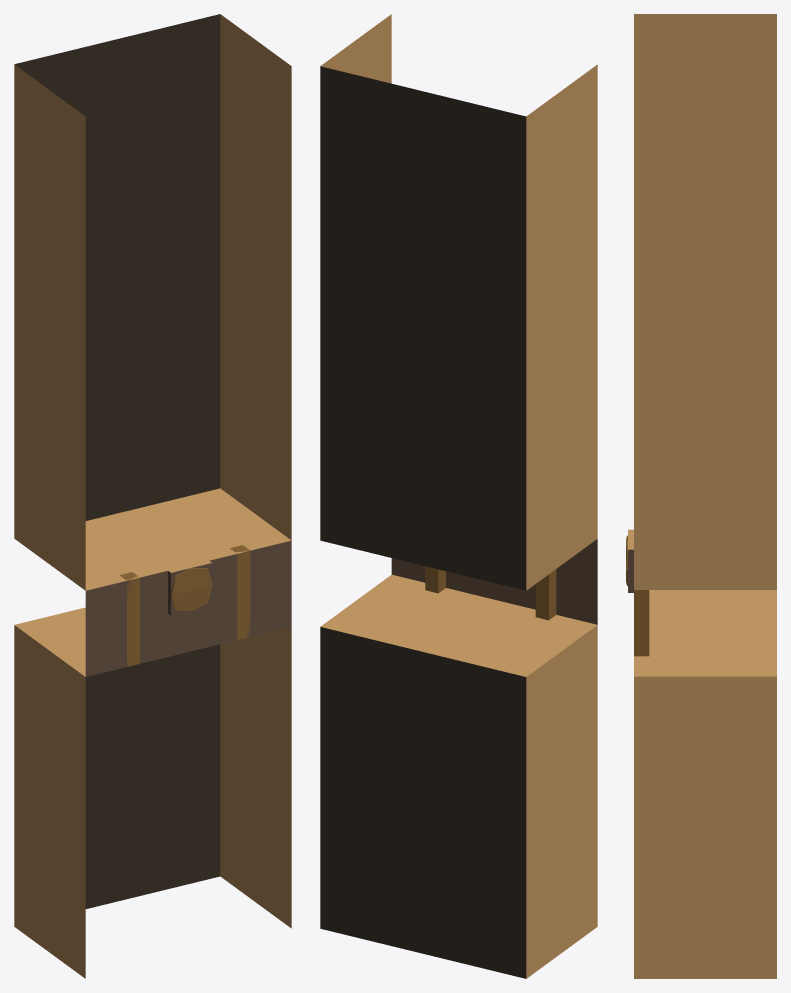
File: Gang1.fbx
3 views of the same model, side by side, from view 1: azimuth 30°, elevation 25°; view 2: azimuth 150°, elevation 25°; view 3: azimuth 270°, elevation 25° (orthographic).
Visible parts, largest first — view 1: Plane.013; view 2: Plane.013; view 3: Plane.013.
Part boxes in pixels (left/top/right/bottom): Plane.013: left=14, top=14, right=291, bottom=978; Plane.013: left=320, top=14, right=597, bottom=978; Plane.013: left=626, top=14, right=776, bottom=978.
Bounding box in the file's own units: 1000 × 4000 × 633.
